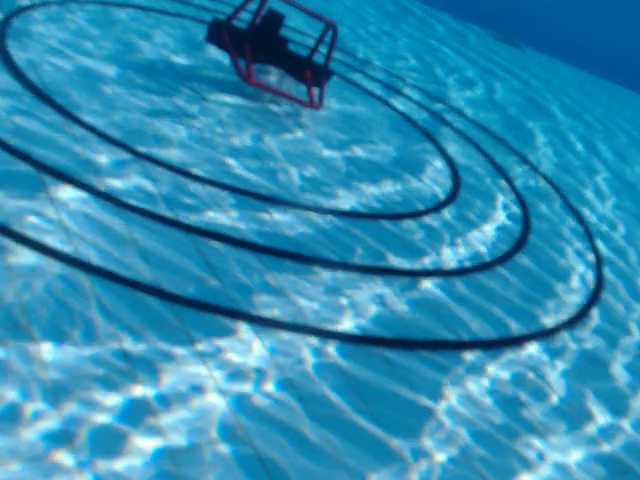submarine: (206, 1, 341, 114)
